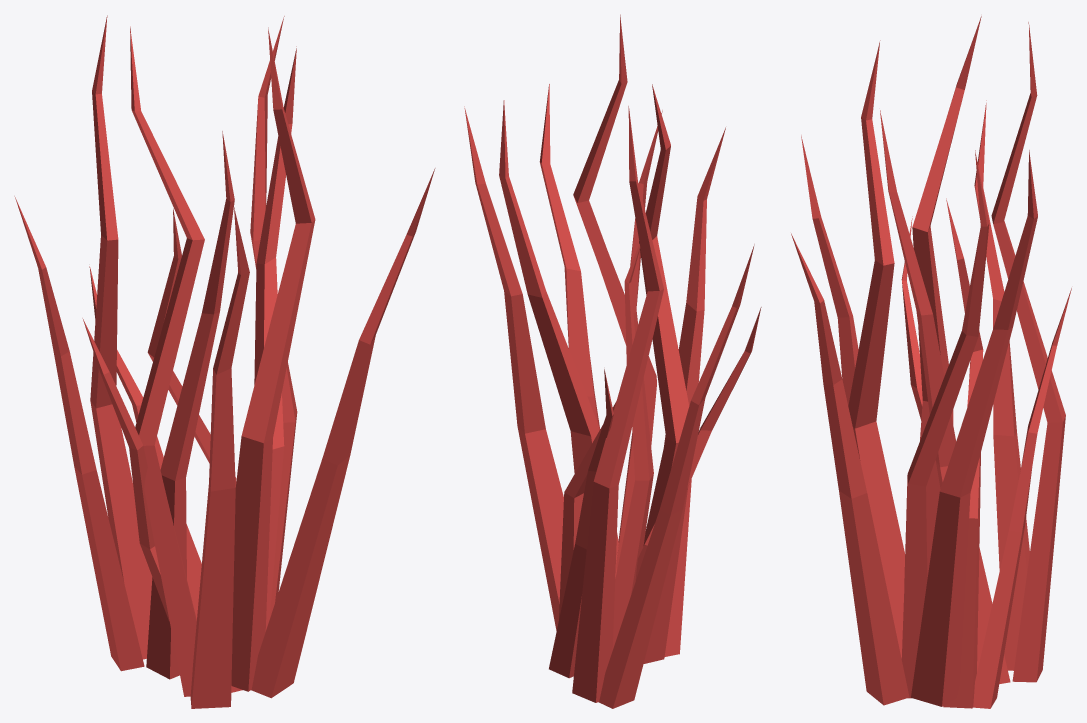
File: Coral_023.glb
The picture shows the model from 3 angles, left to right: view 1: azimuth 30°, elevation 25°; view 2: azimuth 150°, elevation 25°; view 3: azimuth 270°, elevation 25°; orthographic projection. The views are drawn at different scales.
Visible parts, largest first — view 1: Coral_023; view 2: Coral_023; view 3: Coral_023.
Part boxes in pixels (x1=…): Coral_023: x1=14, y1=15, x2=435, y2=708; Coral_023: x1=464, y1=14, x2=761, y2=708; Coral_023: x1=791, y1=16, x2=1071, y2=708.
Bounding box in the file's own units: 0.3153 × 0.635 × 0.2439.
Materials: 1 (1 with a texture image).
